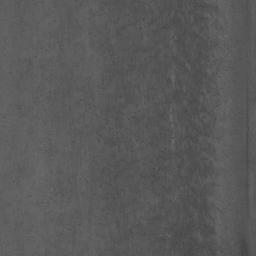Silk spot: (0, 0, 227, 256)
